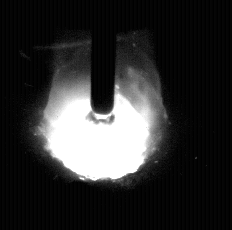arame: (91, 0, 116, 115)
poca: (41, 0, 170, 230)
